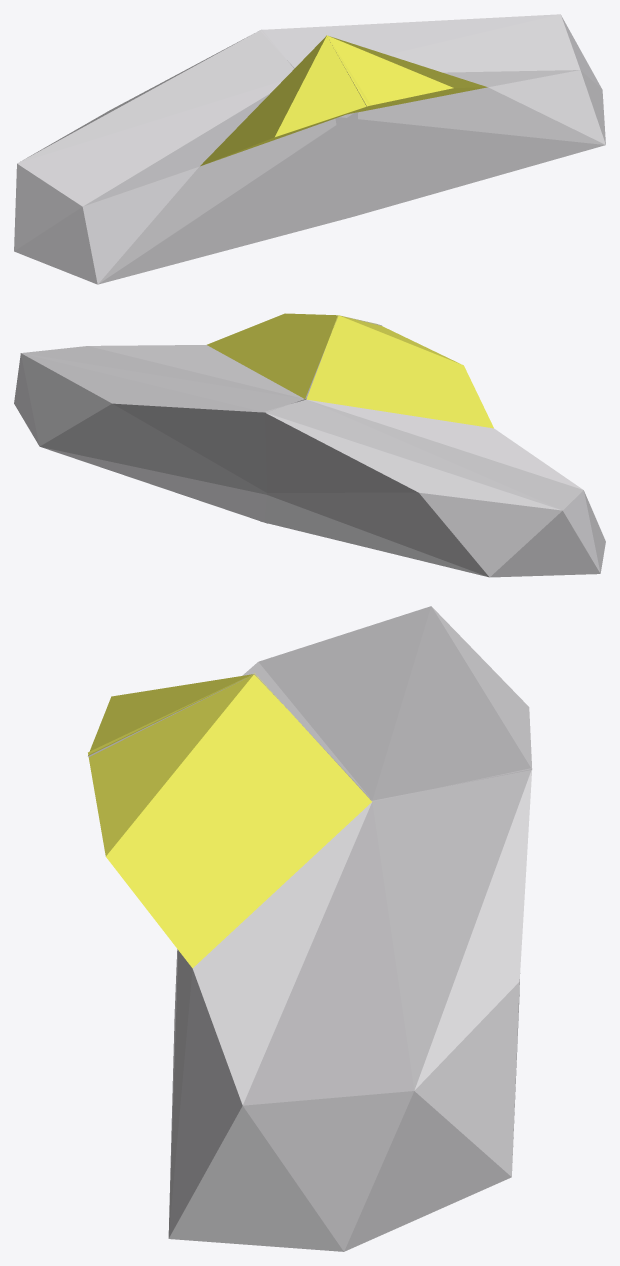
Rendered from protein_7.fbx.
The picture shows the model from 3 angles, top to bottom: view 1: azimuth 30°, elevation 25°; view 2: azimuth 150°, elevation 25°; view 3: azimuth 270°, elevation 25°; orthographic projection. The views are drawn at different scales.
Parts seen in each view (by area): view 1: main body.002; view 2: main body.002; view 3: main body.002.
Boxes of the visible parts, left/top/right/bottom form: main body.002: left=14, top=14, right=605, bottom=284; main body.002: left=14, top=313, right=605, bottom=577; main body.002: left=88, top=606, right=532, bottom=1251.
Bounding box in the file's own units: 399 × 115 × 132.
